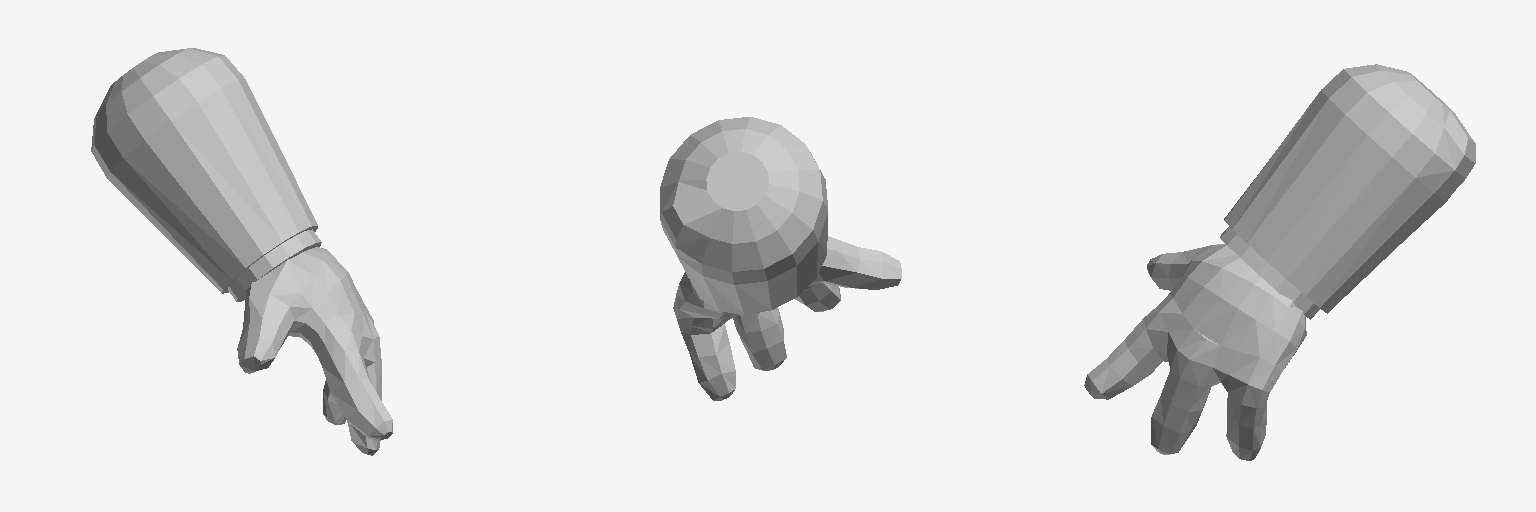
Rendered from downhandl.obj.
3 views of the same model, side by side, from view 1: azimuth 30°, elevation 25°; view 2: azimuth 150°, elevation 25°; view 3: azimuth 270°, elevation 25° (orthographic).
Parts seen in each view (by area): view 1: al:lowarmL, al:handL, al:lowarmL1, al:sleaveL1; view 2: al:lowarmL1, al:handL, al:lowarmL; view 3: al:handL, al:lowarmL, al:lowarmL1, al:sleaveL1.
Part boxes in pixels (x1,y1,x2,y2): al:lowarmL: (107,79,317,292); al:handL: (237,247,392,455); al:lowarmL1: (91,48,317,293); al:sleaveL1: (228,229,320,301); al:lowarmL1: (660,117,827,284); al:handL: (673,236,901,400); al:lowarmL: (665,152,827,314); al:handL: (1084,244,1306,460); al:lowarmL: (1224,73,1454,313); al:lowarmL1: (1321,64,1475,201); al:sleaveL1: (1220,226,1319,319).
Size of the model in its own units: 1.13 by 1.79 by 1.85.